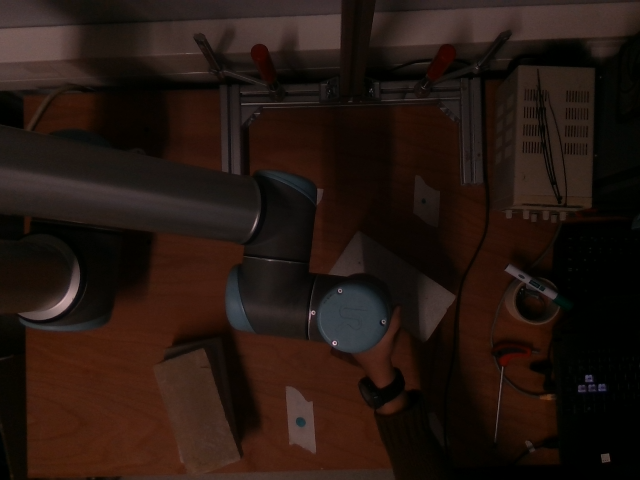brick: (151, 351, 239, 476)
